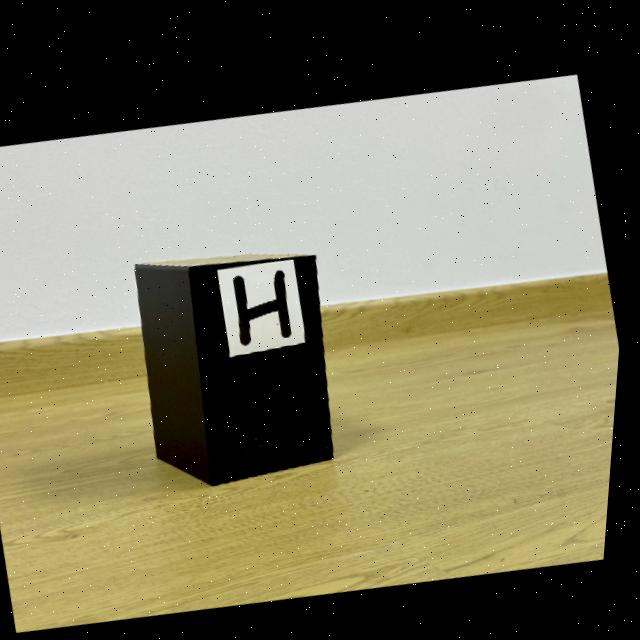H: (237, 264, 296, 339)
